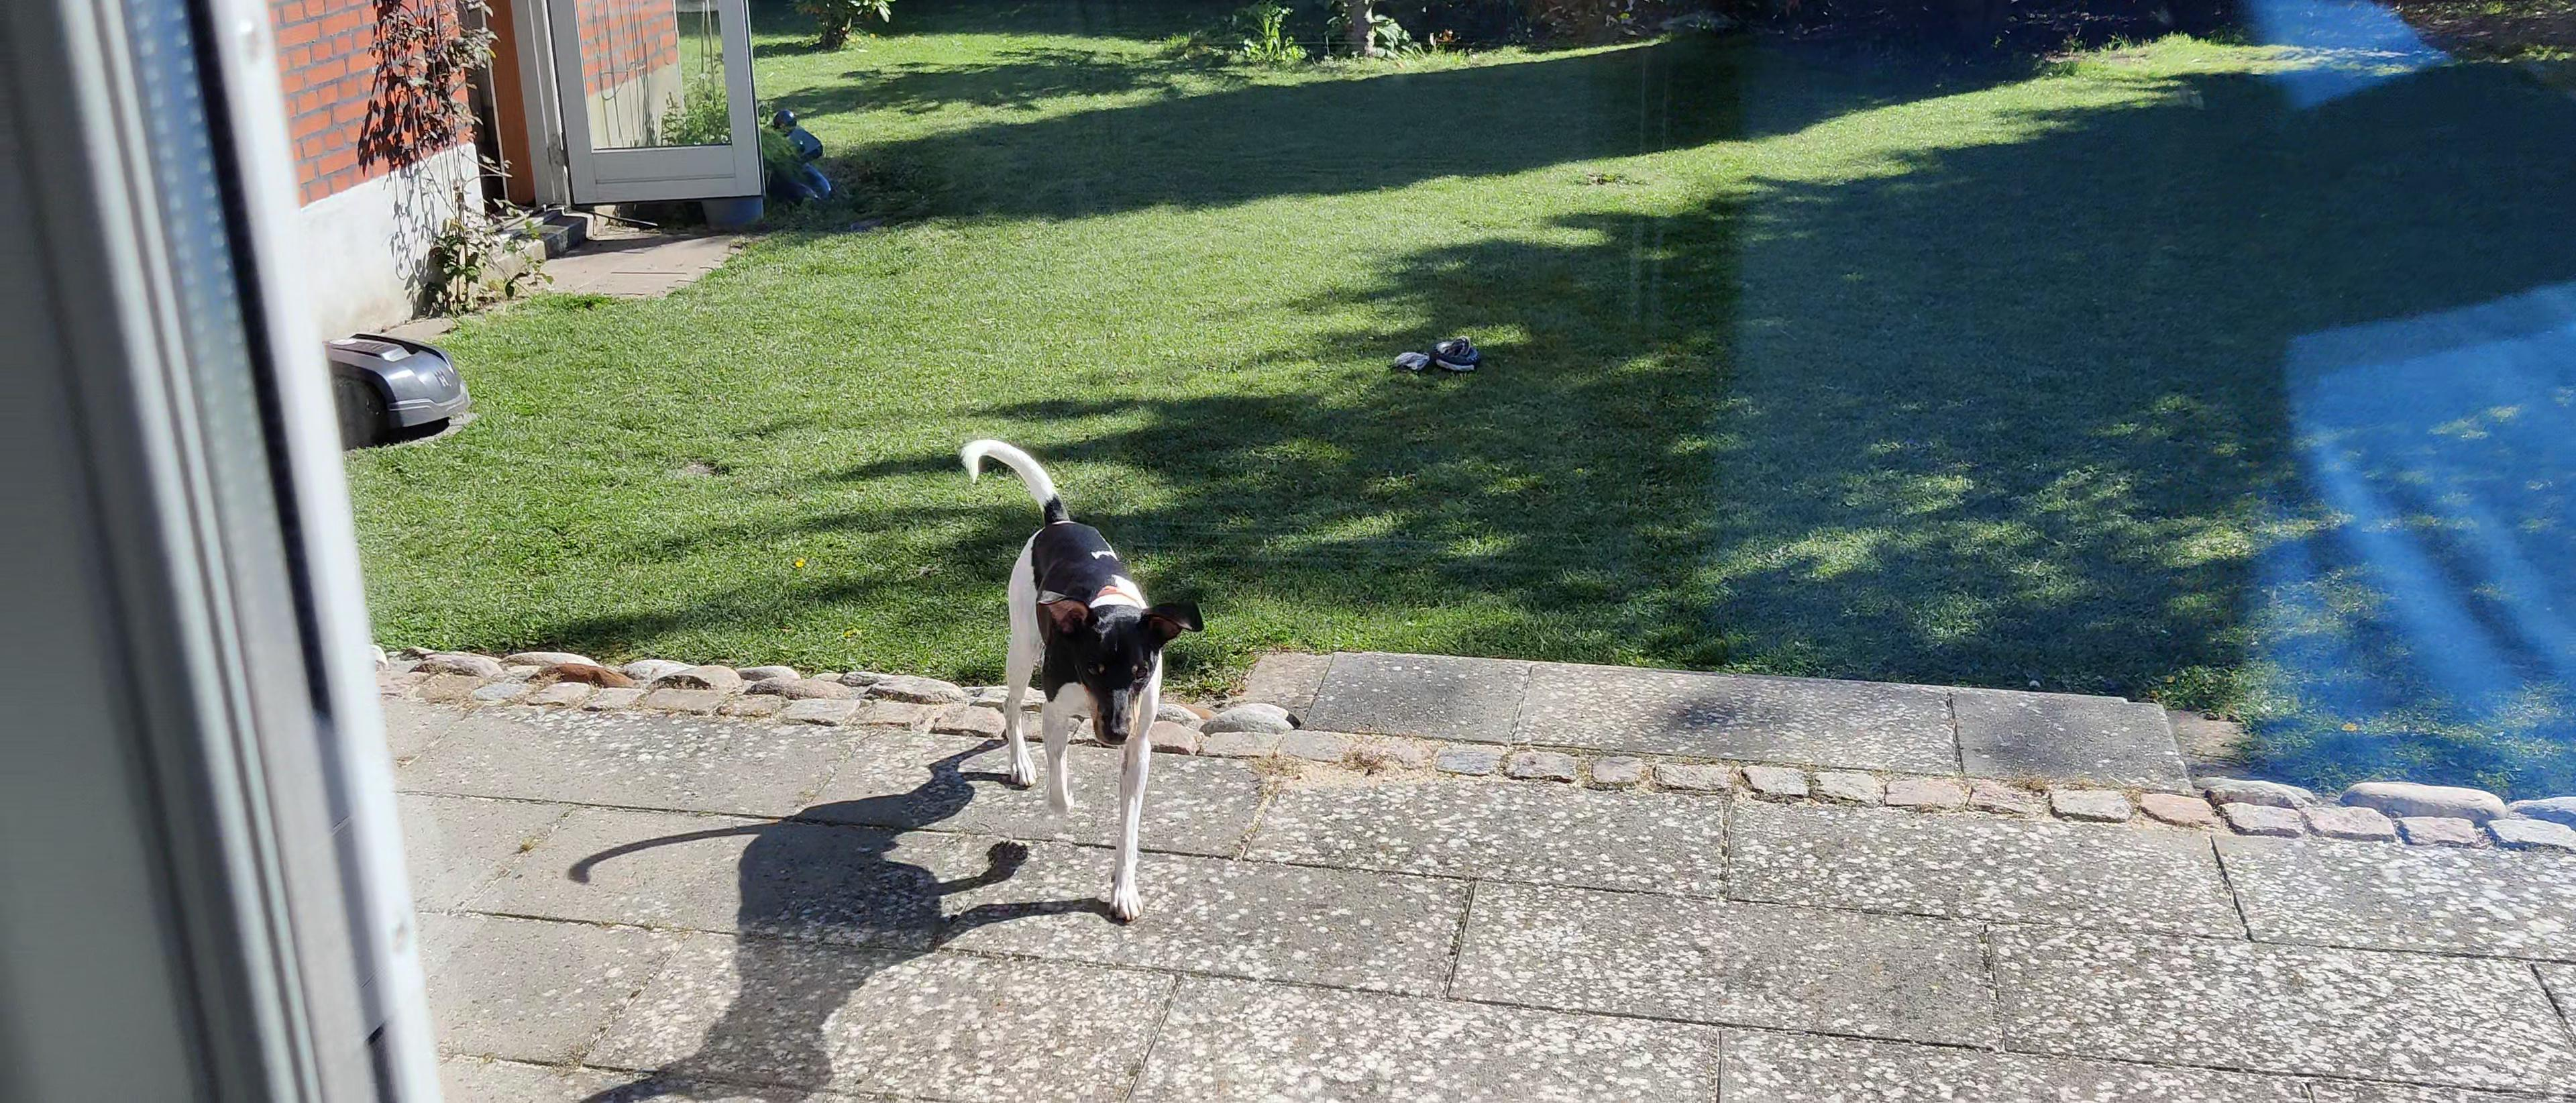Dog: (953, 434, 1211, 927)
